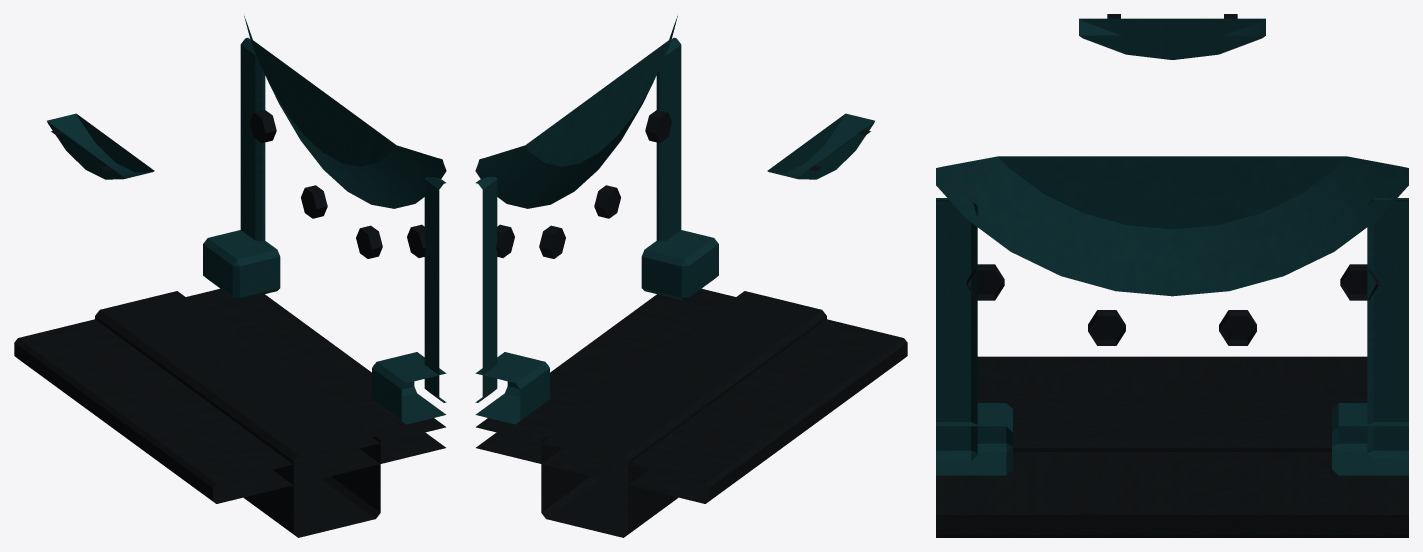
The model's file is cell_6.obj.
3 views of the same model, side by side, from view 1: azimuth 30°, elevation 25°; view 2: azimuth 150°, elevation 25°; view 3: azimuth 270°, elevation 25° (orthographic). The views are drawn at different scales.
Parts seen in each view (by area): view 1: cell_6; view 2: cell_6; view 3: cell_6.
Part boxes in pixels (x1,y1,x2,y2): cell_6: (14, 16, 446, 537); cell_6: (475, 16, 907, 537); cell_6: (936, 14, 1408, 537).
Size of the model in its own units: 0.7828 by 0.954 by 1.
